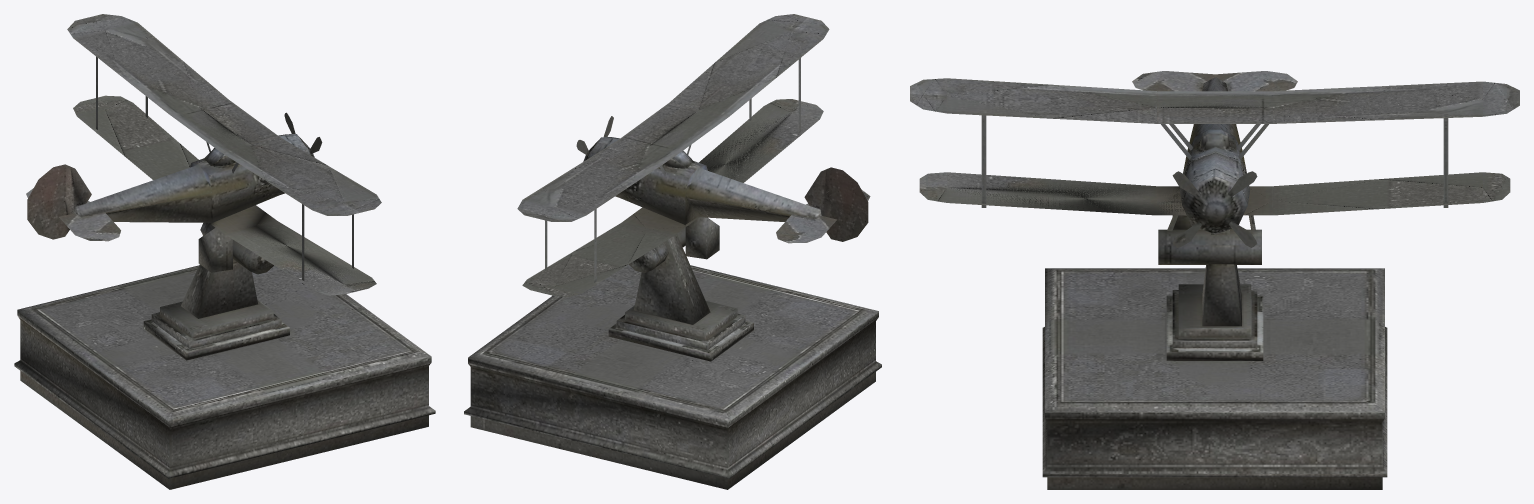
Rendered from statue.glb.
3 views of the same model, side by side, from view 1: azimuth 30°, elevation 25°; view 2: azimuth 150°, elevation 25°; view 3: azimuth 270°, elevation 25° (orthographic). The views are drawn at different scales.
Visible parts, largest first — view 1: tripo_node_9f1945d7-c6ea-4f92-a88a-84939879ef19; view 2: tripo_node_9f1945d7-c6ea-4f92-a88a-84939879ef19; view 3: tripo_node_9f1945d7-c6ea-4f92-a88a-84939879ef19.
Boxes of the visible parts, x1,y1,x2,y2 form: tripo_node_9f1945d7-c6ea-4f92-a88a-84939879ef19: (14, 14, 435, 489); tripo_node_9f1945d7-c6ea-4f92-a88a-84939879ef19: (464, 14, 881, 489); tripo_node_9f1945d7-c6ea-4f92-a88a-84939879ef19: (910, 71, 1519, 489).
Bounding box in the file's own units: 0.7012 × 0.5879 × 0.998.
1 material, 1 textured.
